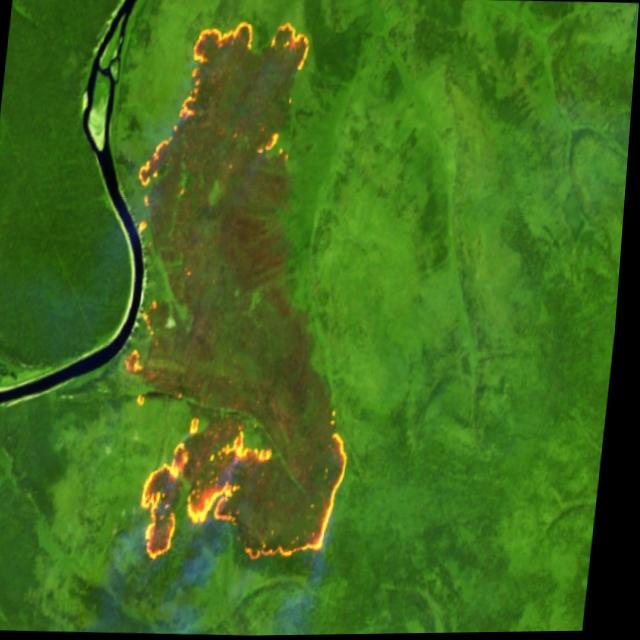fire: (96, 0, 404, 585)
